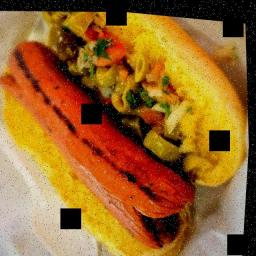hotdog: (2, 15, 222, 253)
